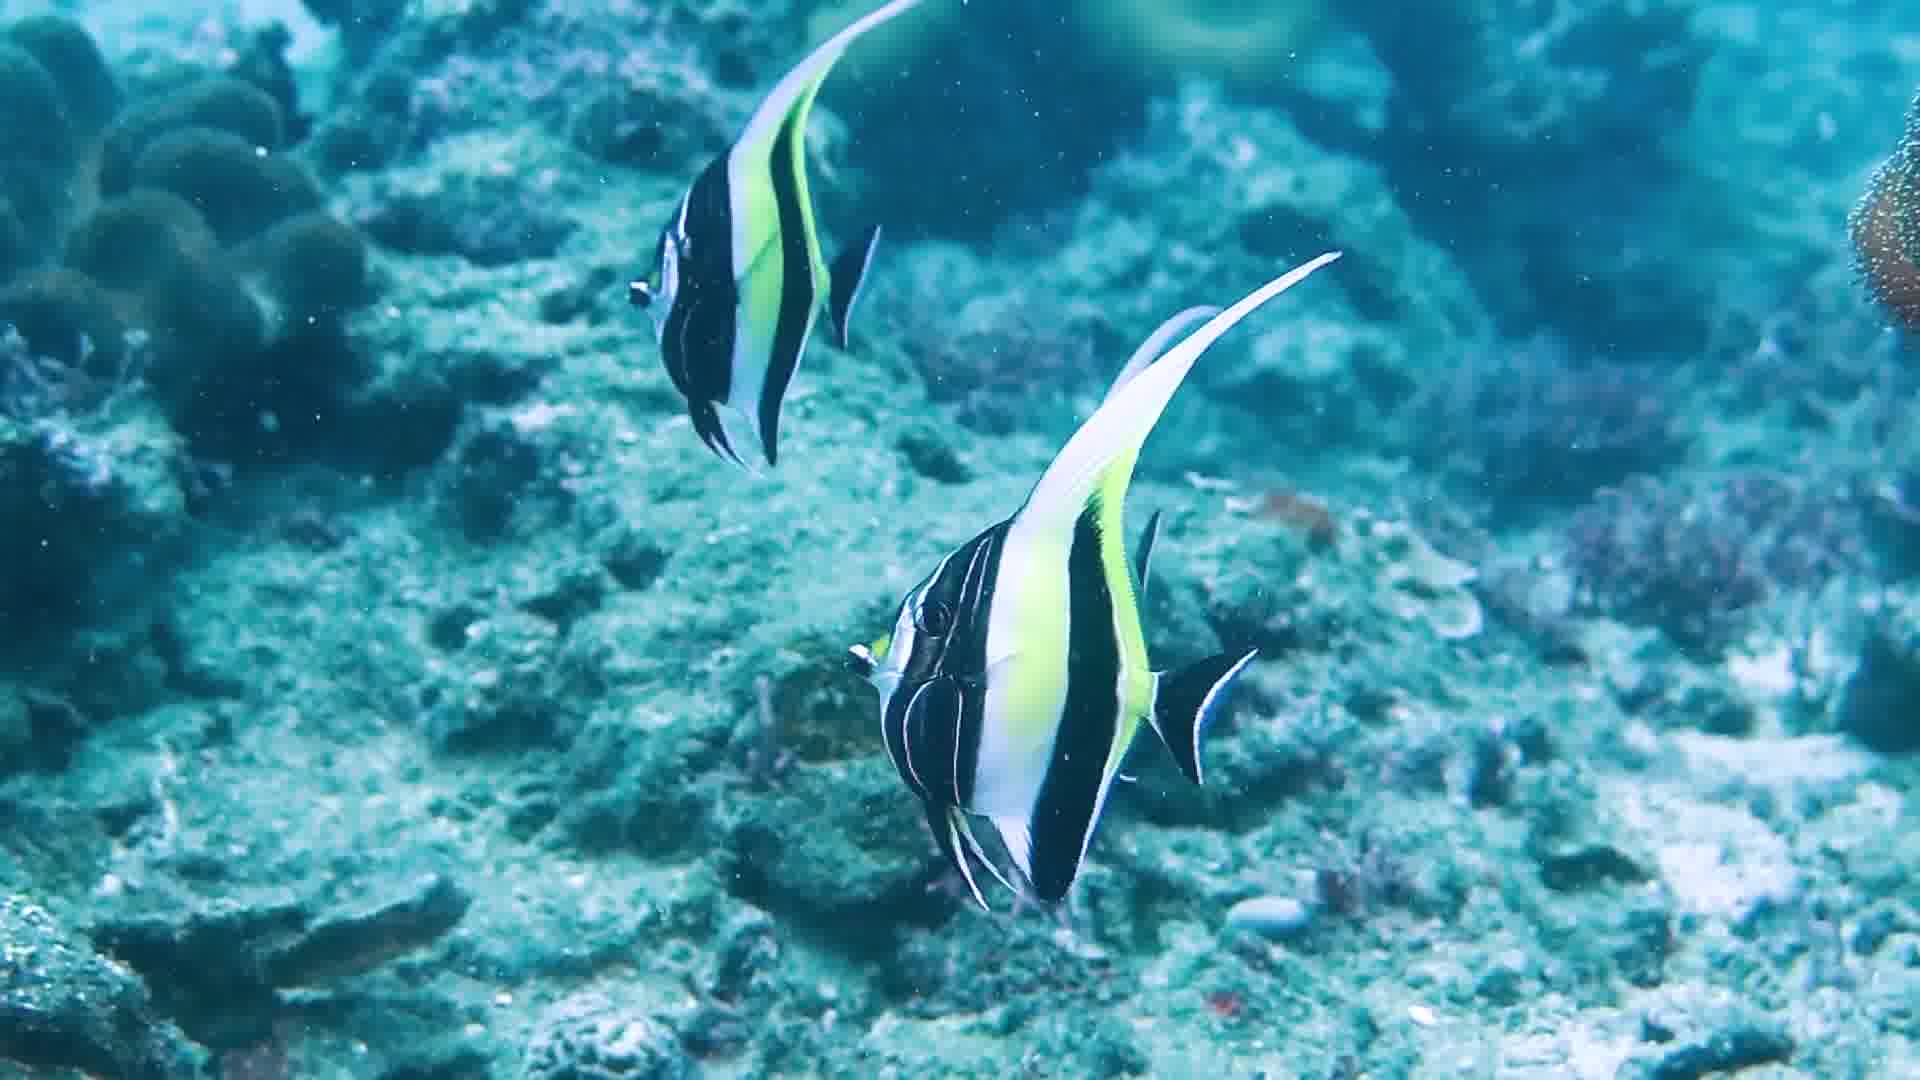Zanclus cornutus: (836, 447, 1341, 926), (622, 71, 866, 465)
